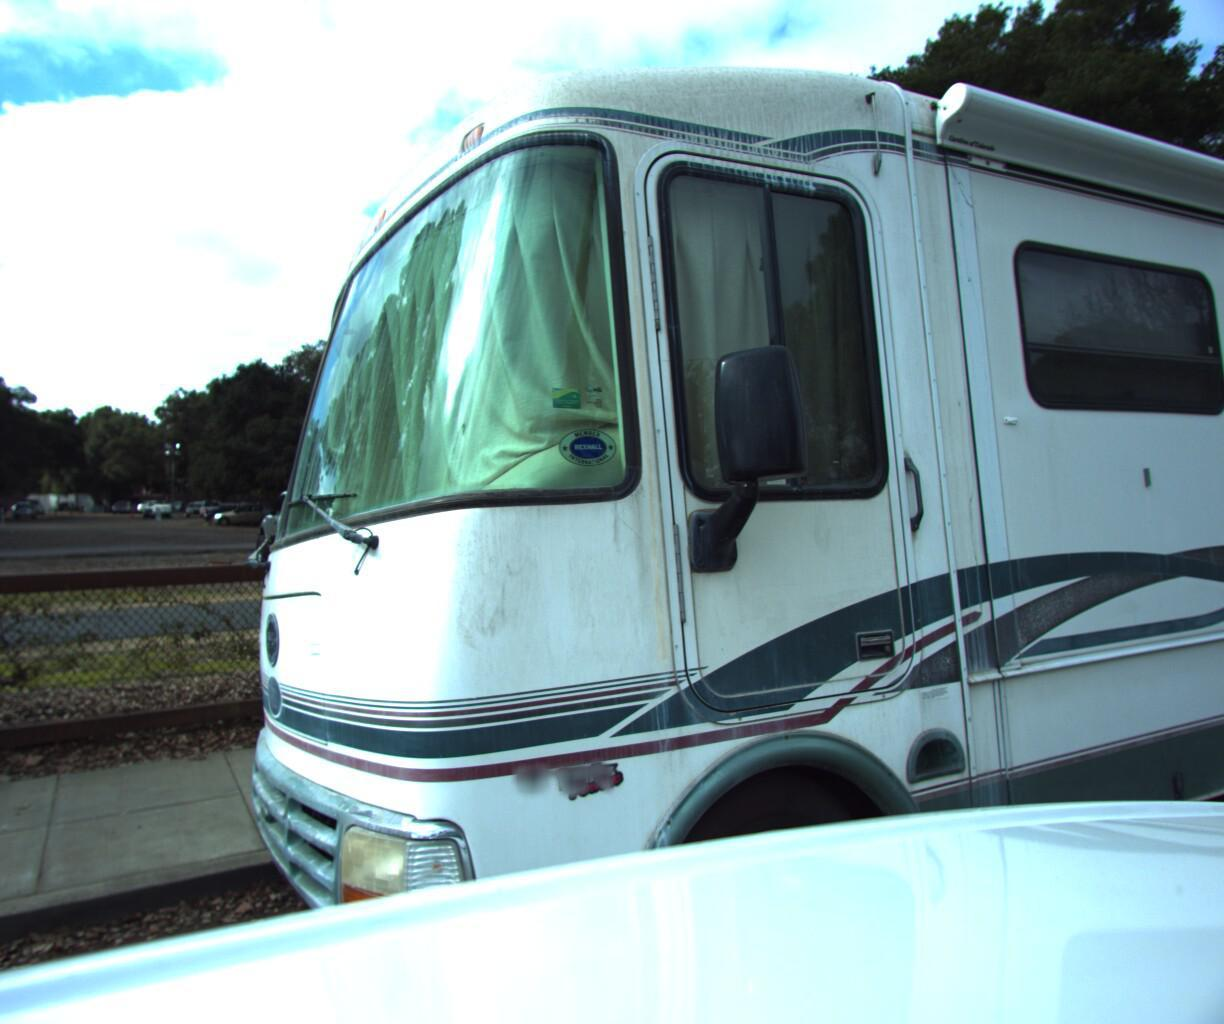other_vehicle: (183, 0, 1224, 1024)
